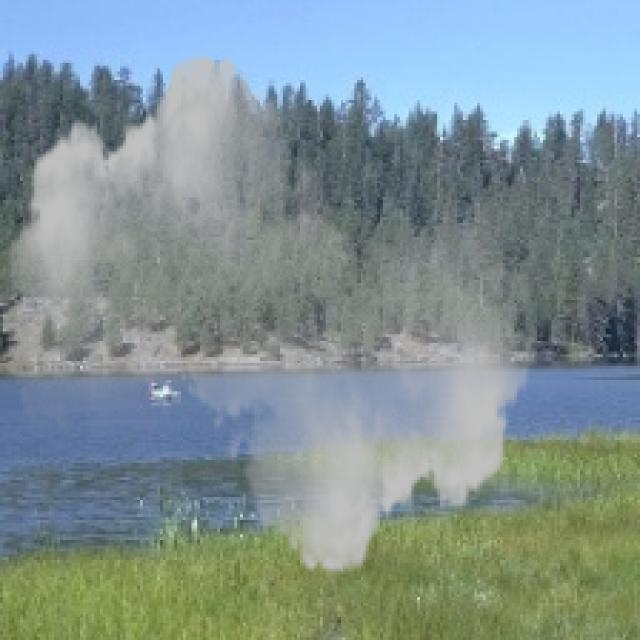smoke: (0, 37, 537, 592)
